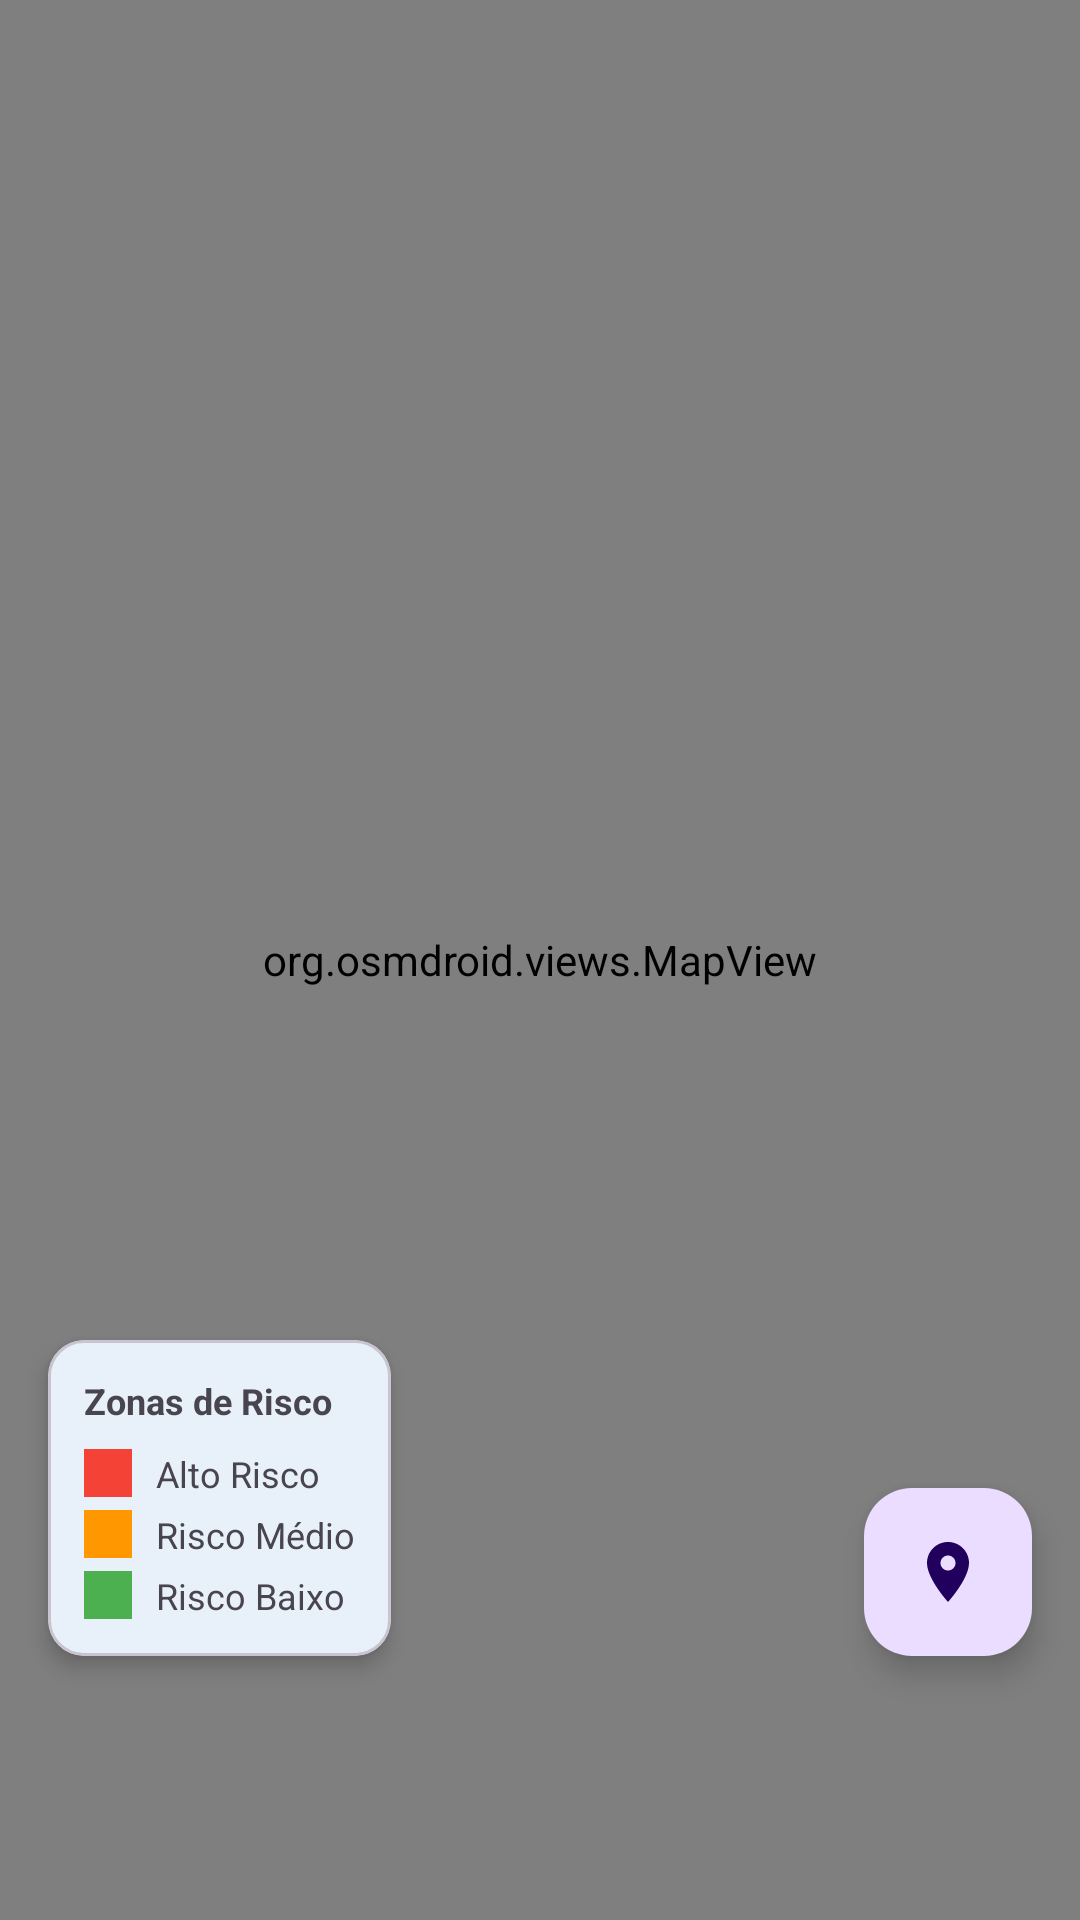

Icon bounding boxes for this 1080w x 1920h phone screenshot, format (x1, y1, x2, y2):
Minha localização: (864, 1488, 1032, 1656)
